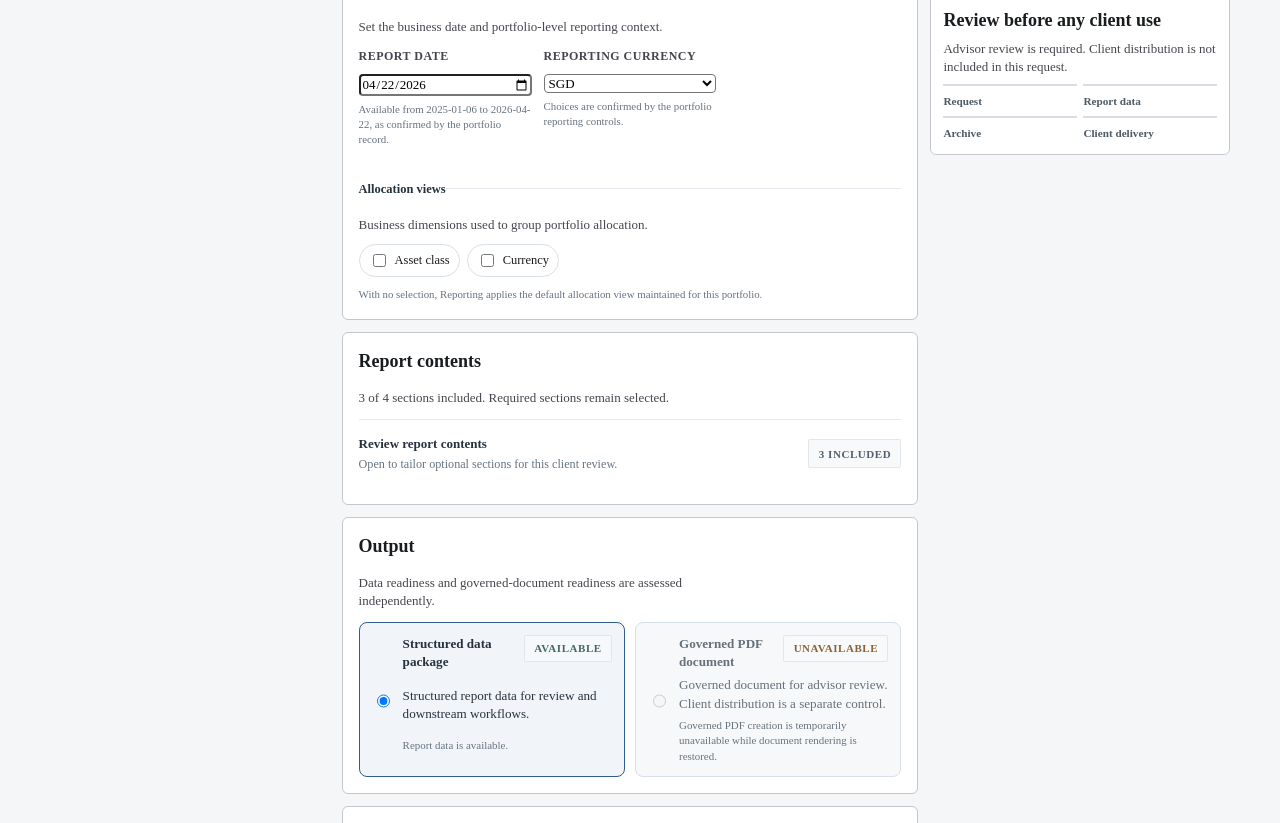
ReportOrderingWorkspace › fences accepted commentary to the current report date and currency
(page scrolled)
Click the text "Review report contents". click: (423, 443)
box: [359,436,487,450]
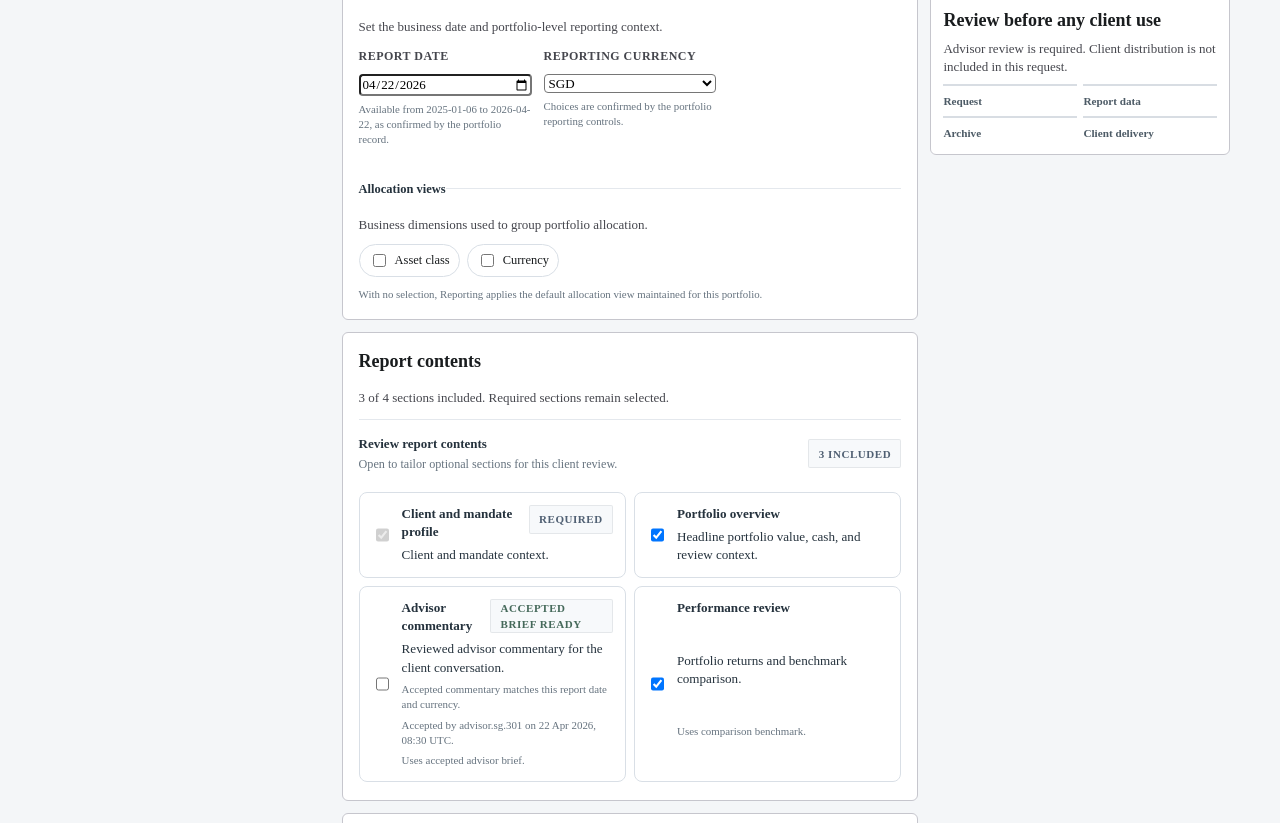
Click the checkbox labelled "Advisor commentary". click: (382, 684)
box: [376,602,389,766]
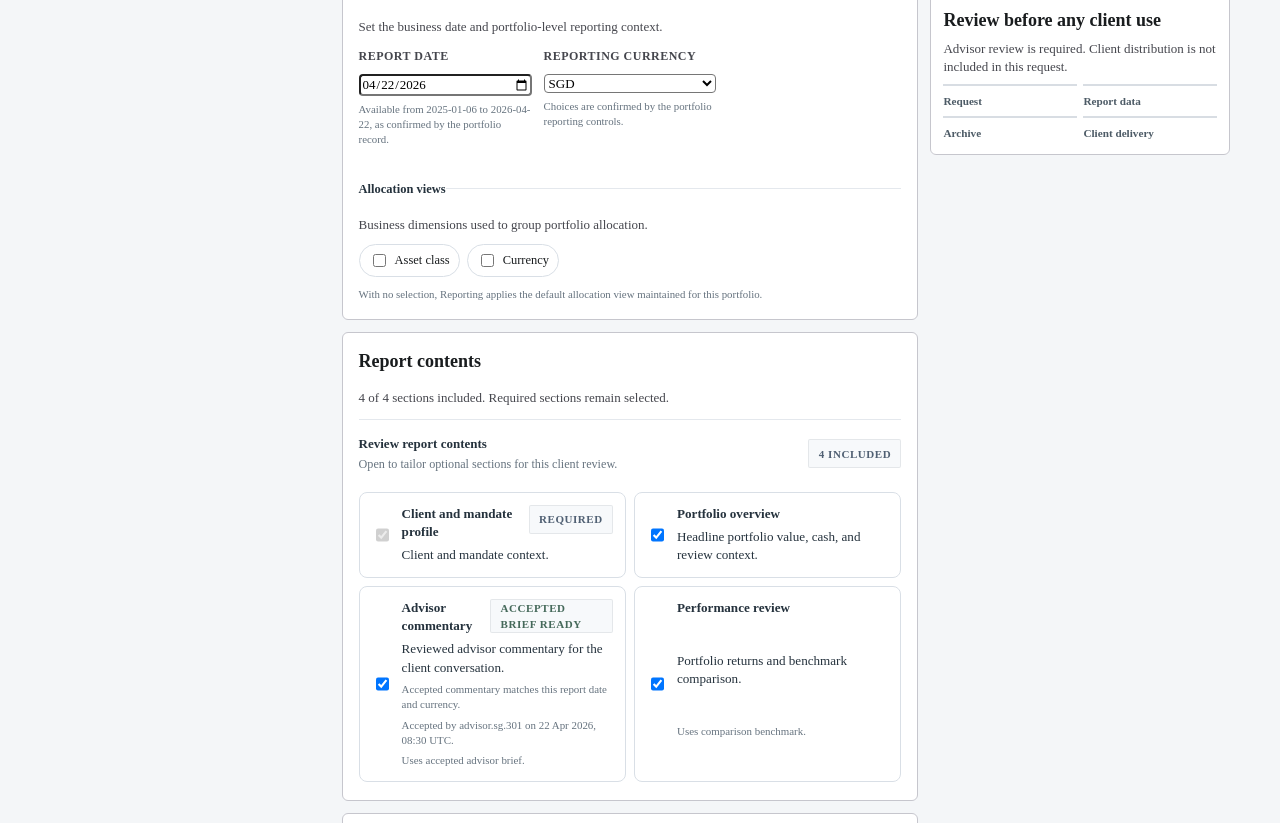
Type "2026-04-21" into the date field labelled "Report date". click: (445, 85)
box: [359,74,532,96]
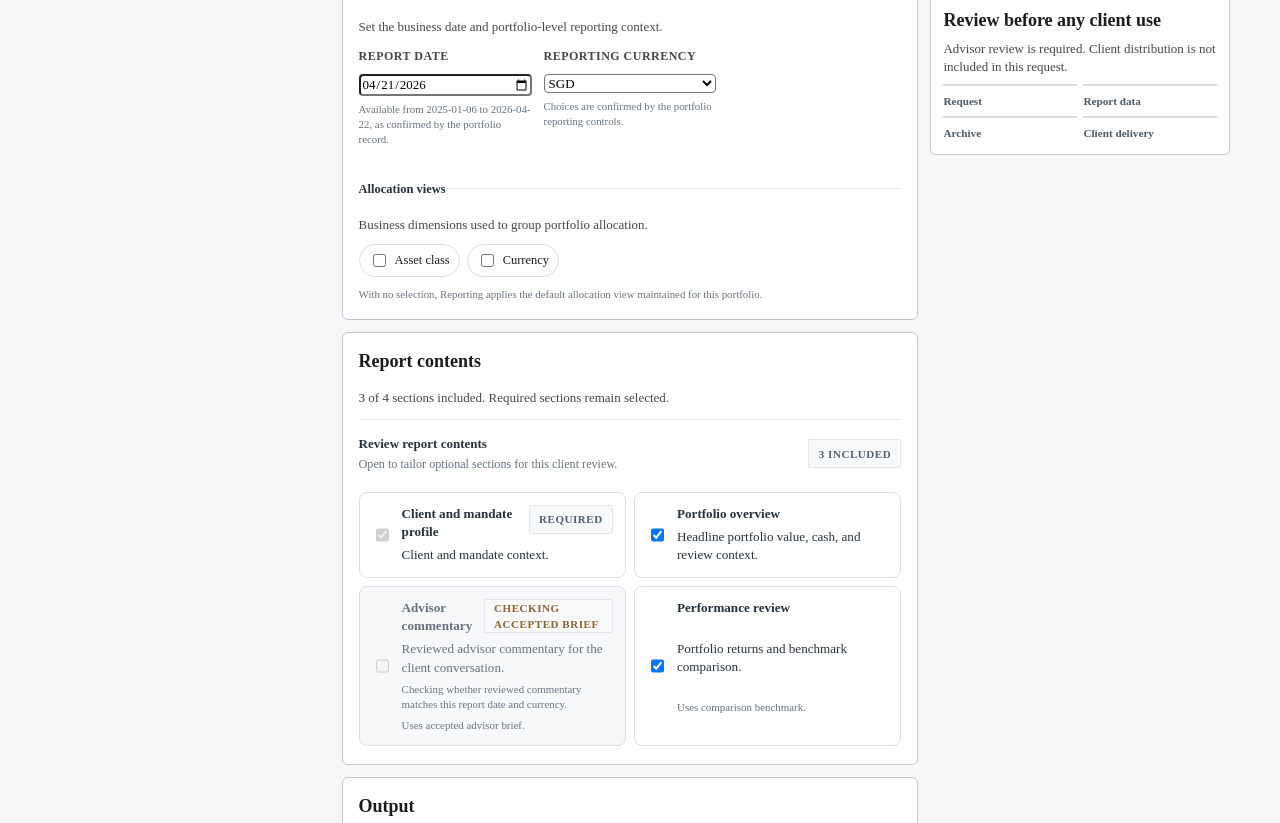
Result: the checkbox labelled "Advisor commentary" is disabled at [376,602,389,730]
Result: the text "Checking accepted brief" is shown at [484,599,613,633]
Select "USD" in the dropdown labelled "Reporting currency". click: (630, 84)
box: [544,74,716,93]
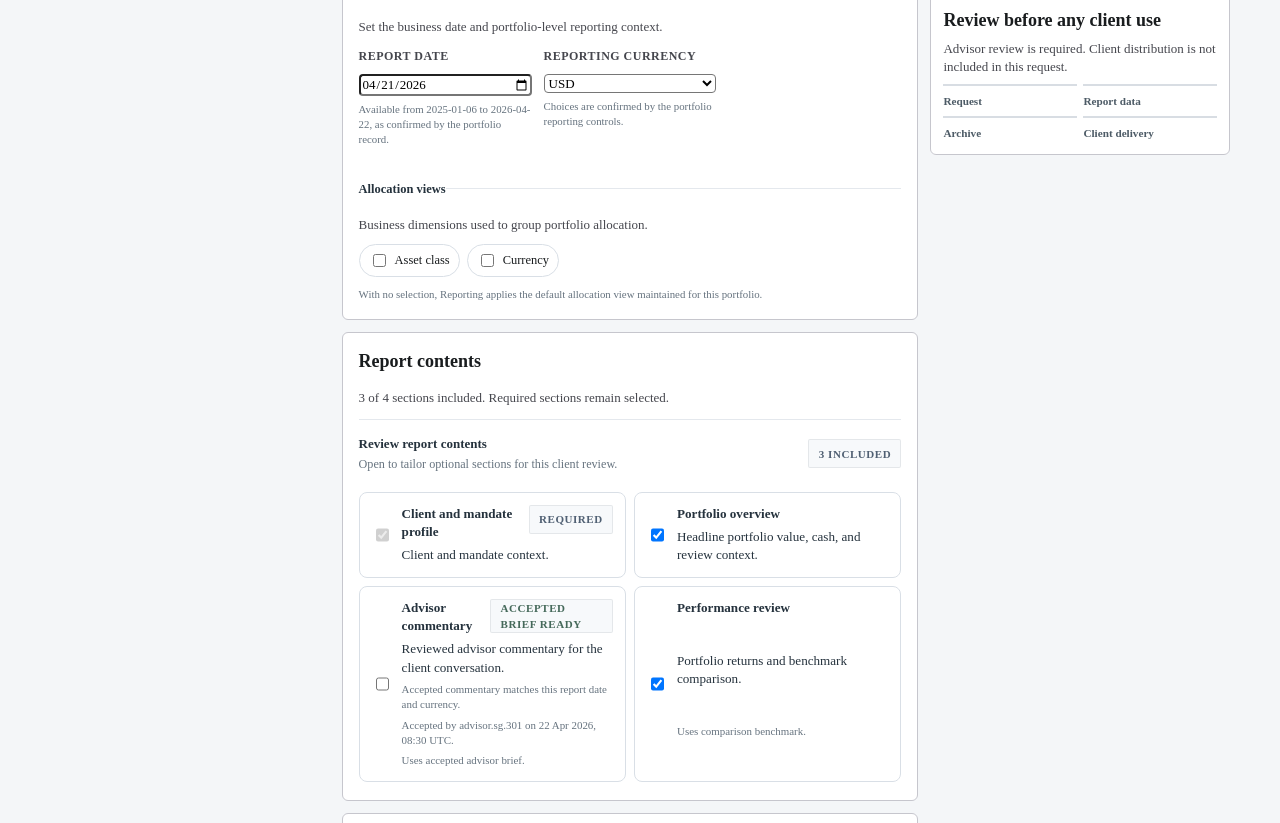
Result: the text "Accepted brief ready" is shown at [490,599,613,633]
